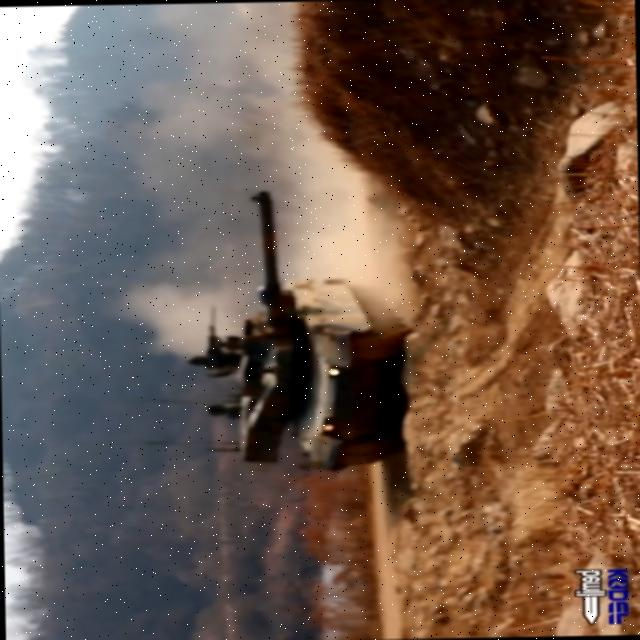korea tank: (178, 185, 413, 474)
